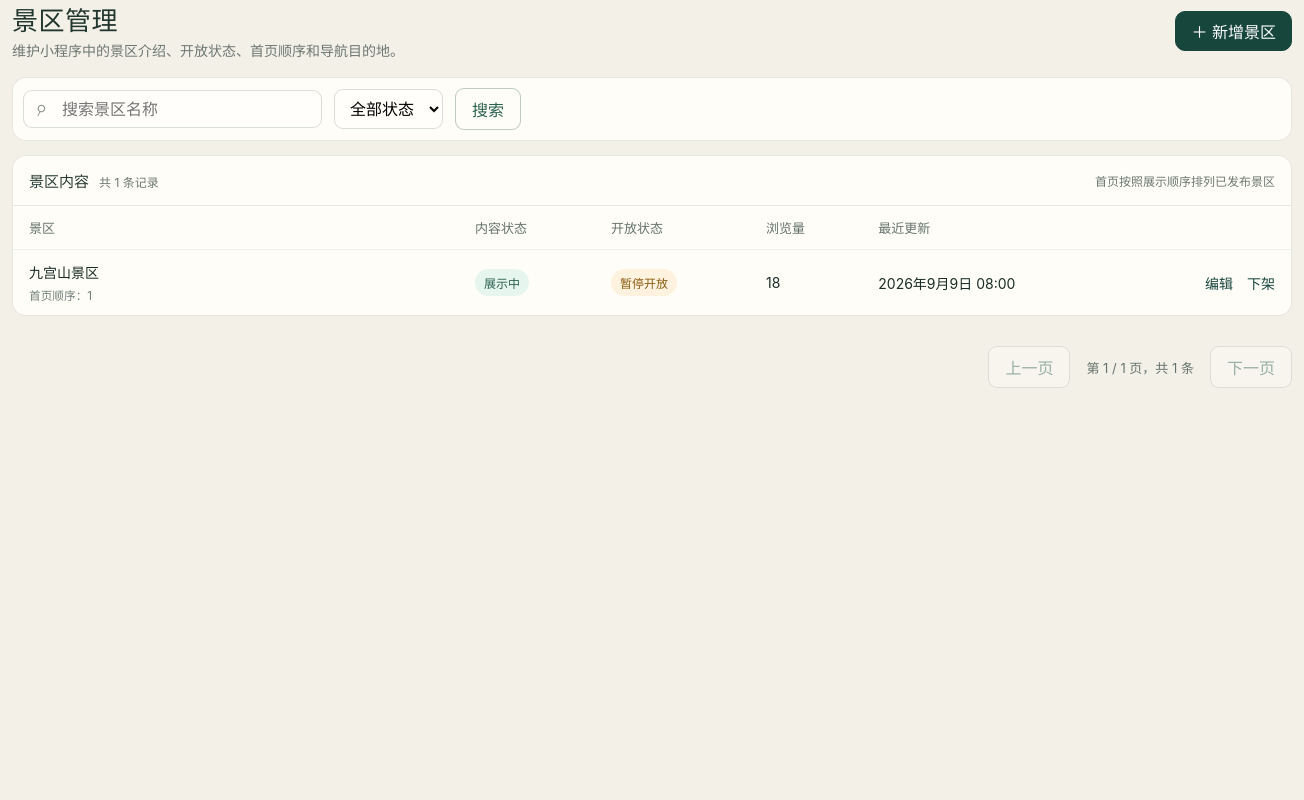
Scenario: ScenicPage › separates publication and opening statuses in the operations list
The image size is (1304, 800).
Expected: the text "九宫山景区" is shown, [29, 262, 99, 282]
Expected: the text "展示中" is shown, [475, 269, 529, 296]
Select "展示中" in the dropdown named "发布状态" at point(388, 109), box [334, 89, 443, 129]
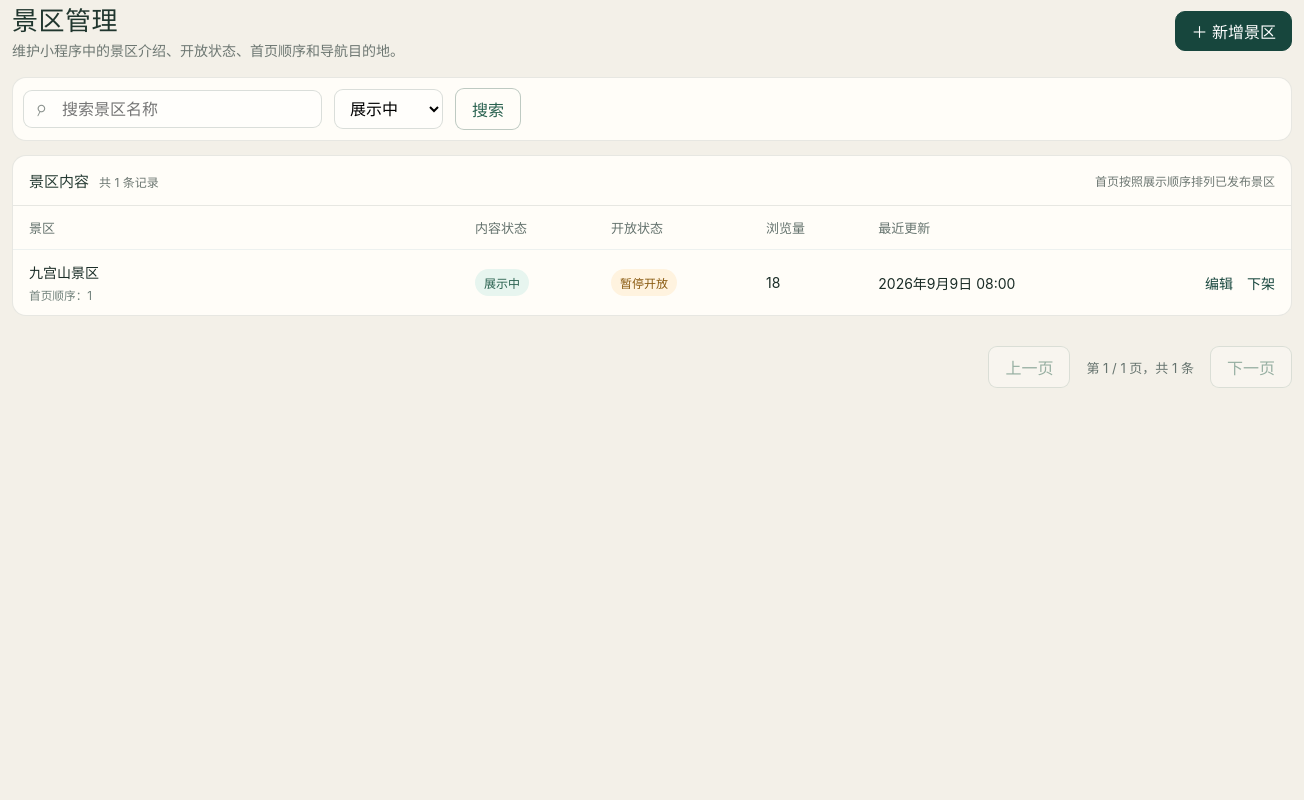
Click the button "＋ 新增景区" at point(1234, 31), box [1176, 11, 1292, 51]
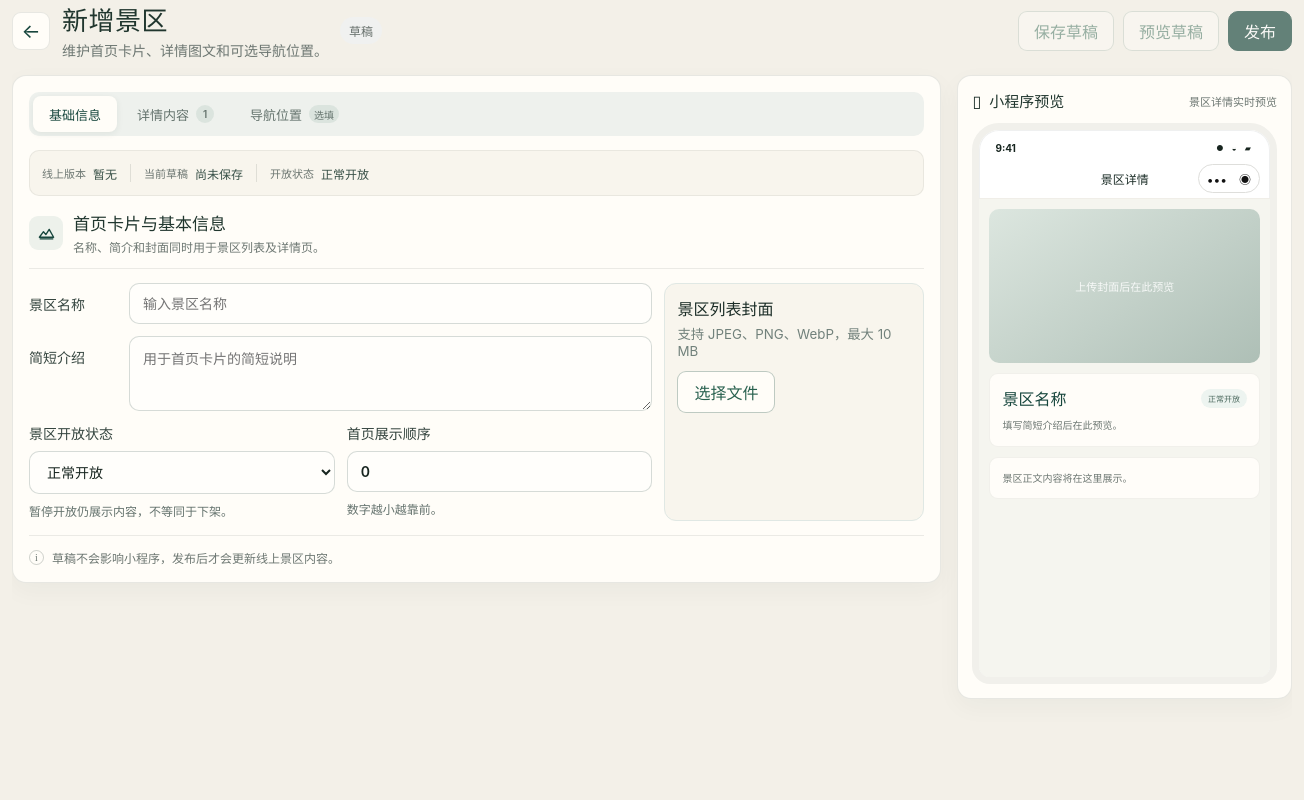
Now the text "景区详情实时预览" is shown, box [1189, 93, 1277, 109]
Click the tab "详情内容 1" at point(176, 114), box [121, 96, 230, 132]
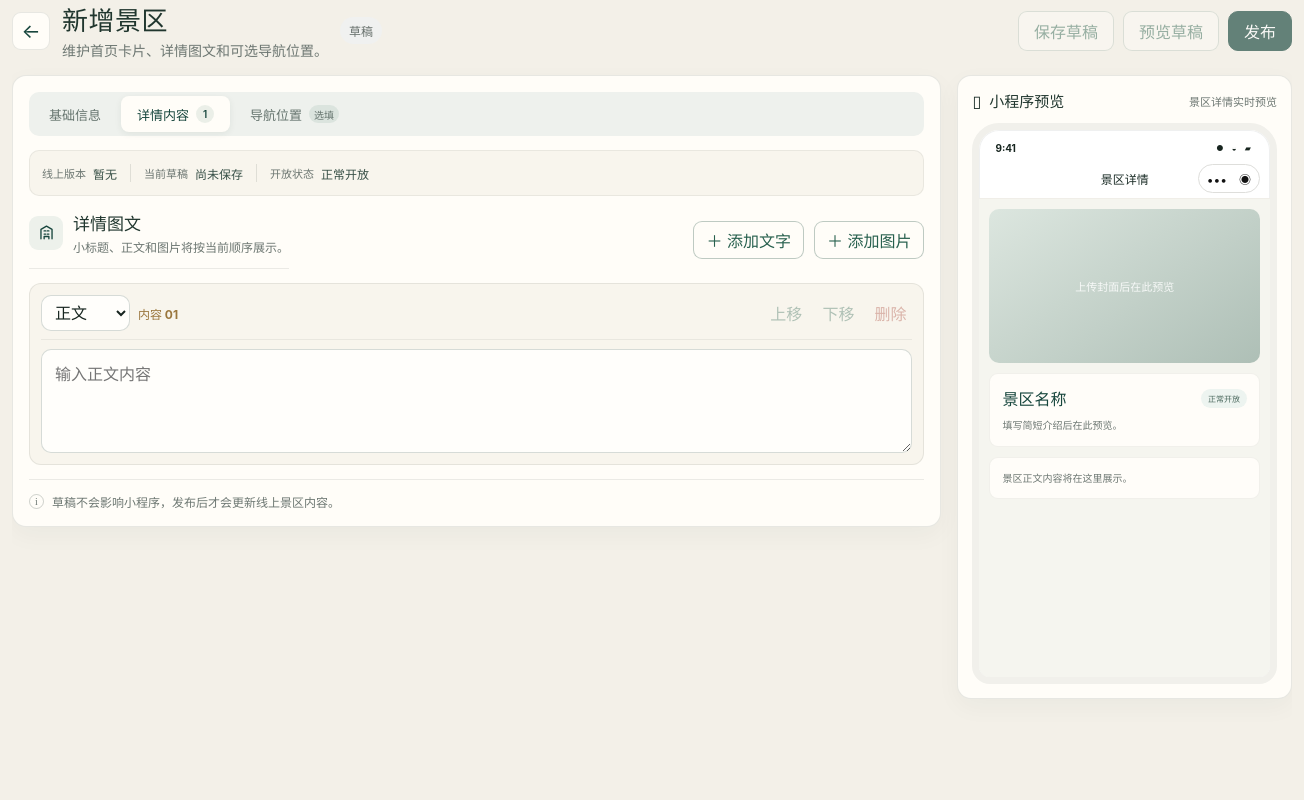
Now the button "＋ 添加图片" is shown, box [814, 221, 924, 259]
Click the tab "导航位置 选填" at point(294, 114), box [234, 96, 355, 132]
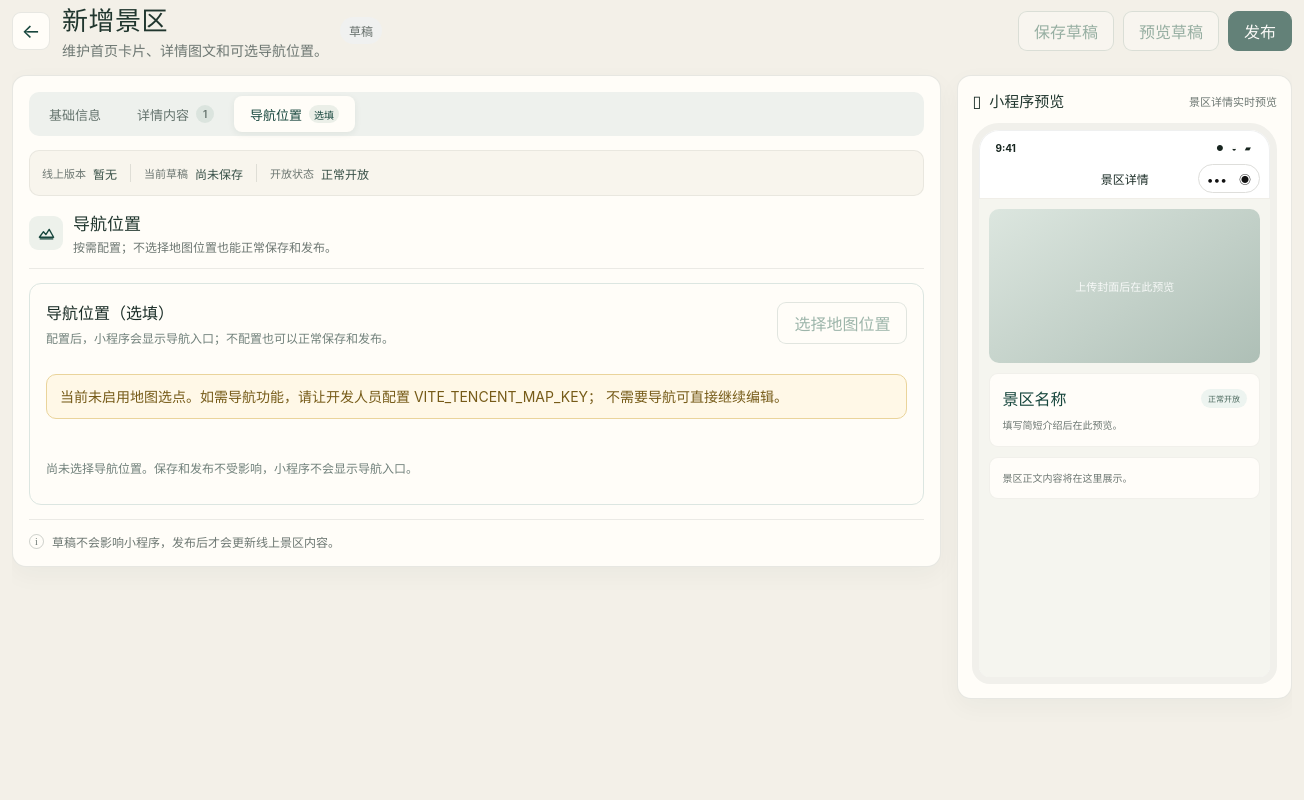
Now the text "按需配置；不选择地图位置也能正常保存和发布。" is shown, box [73, 238, 337, 255]
